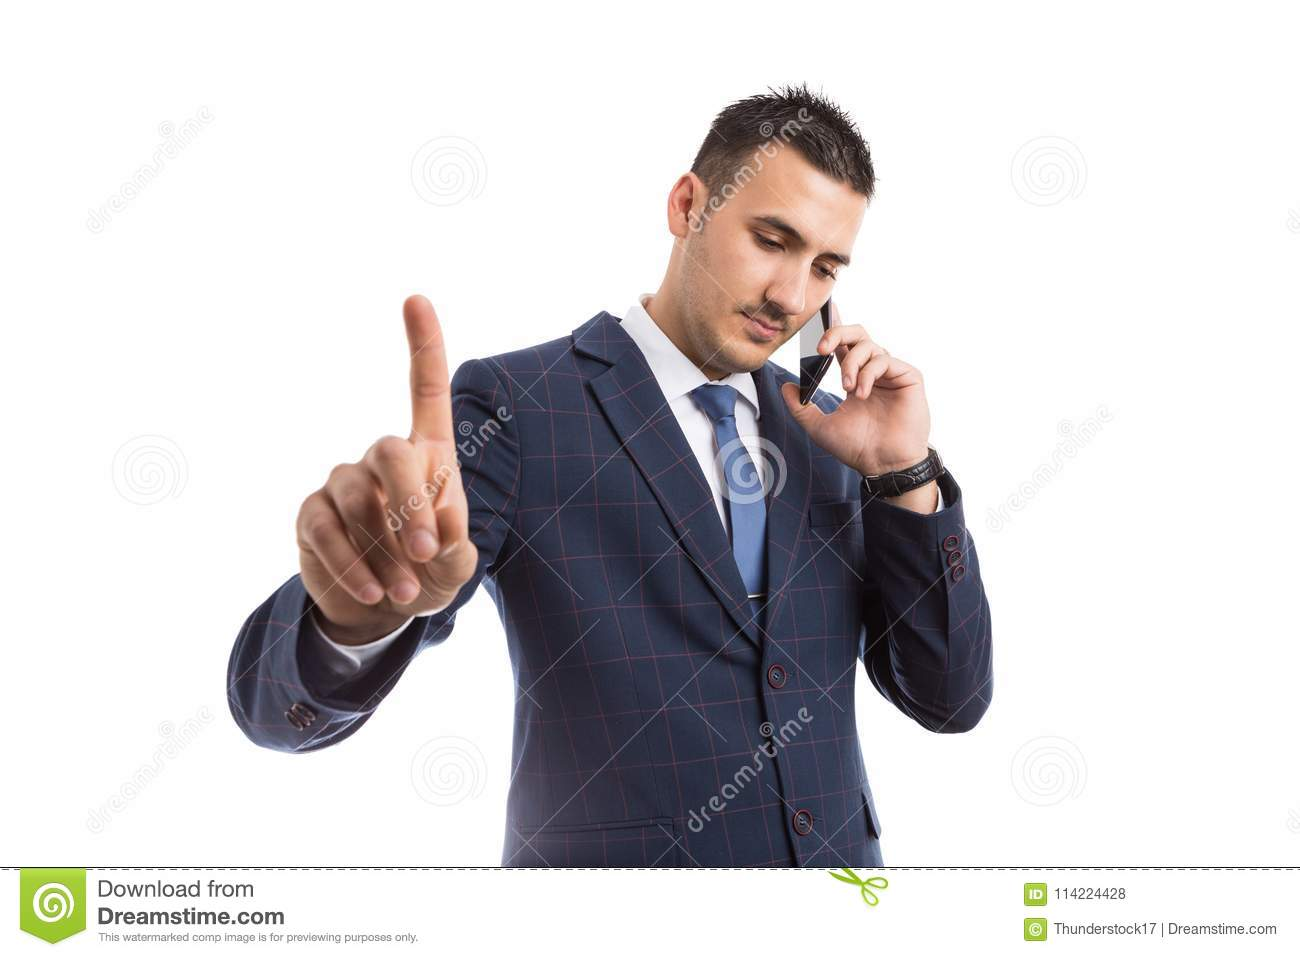phone: (795, 295, 837, 407)
talk: (701, 207, 926, 473)
